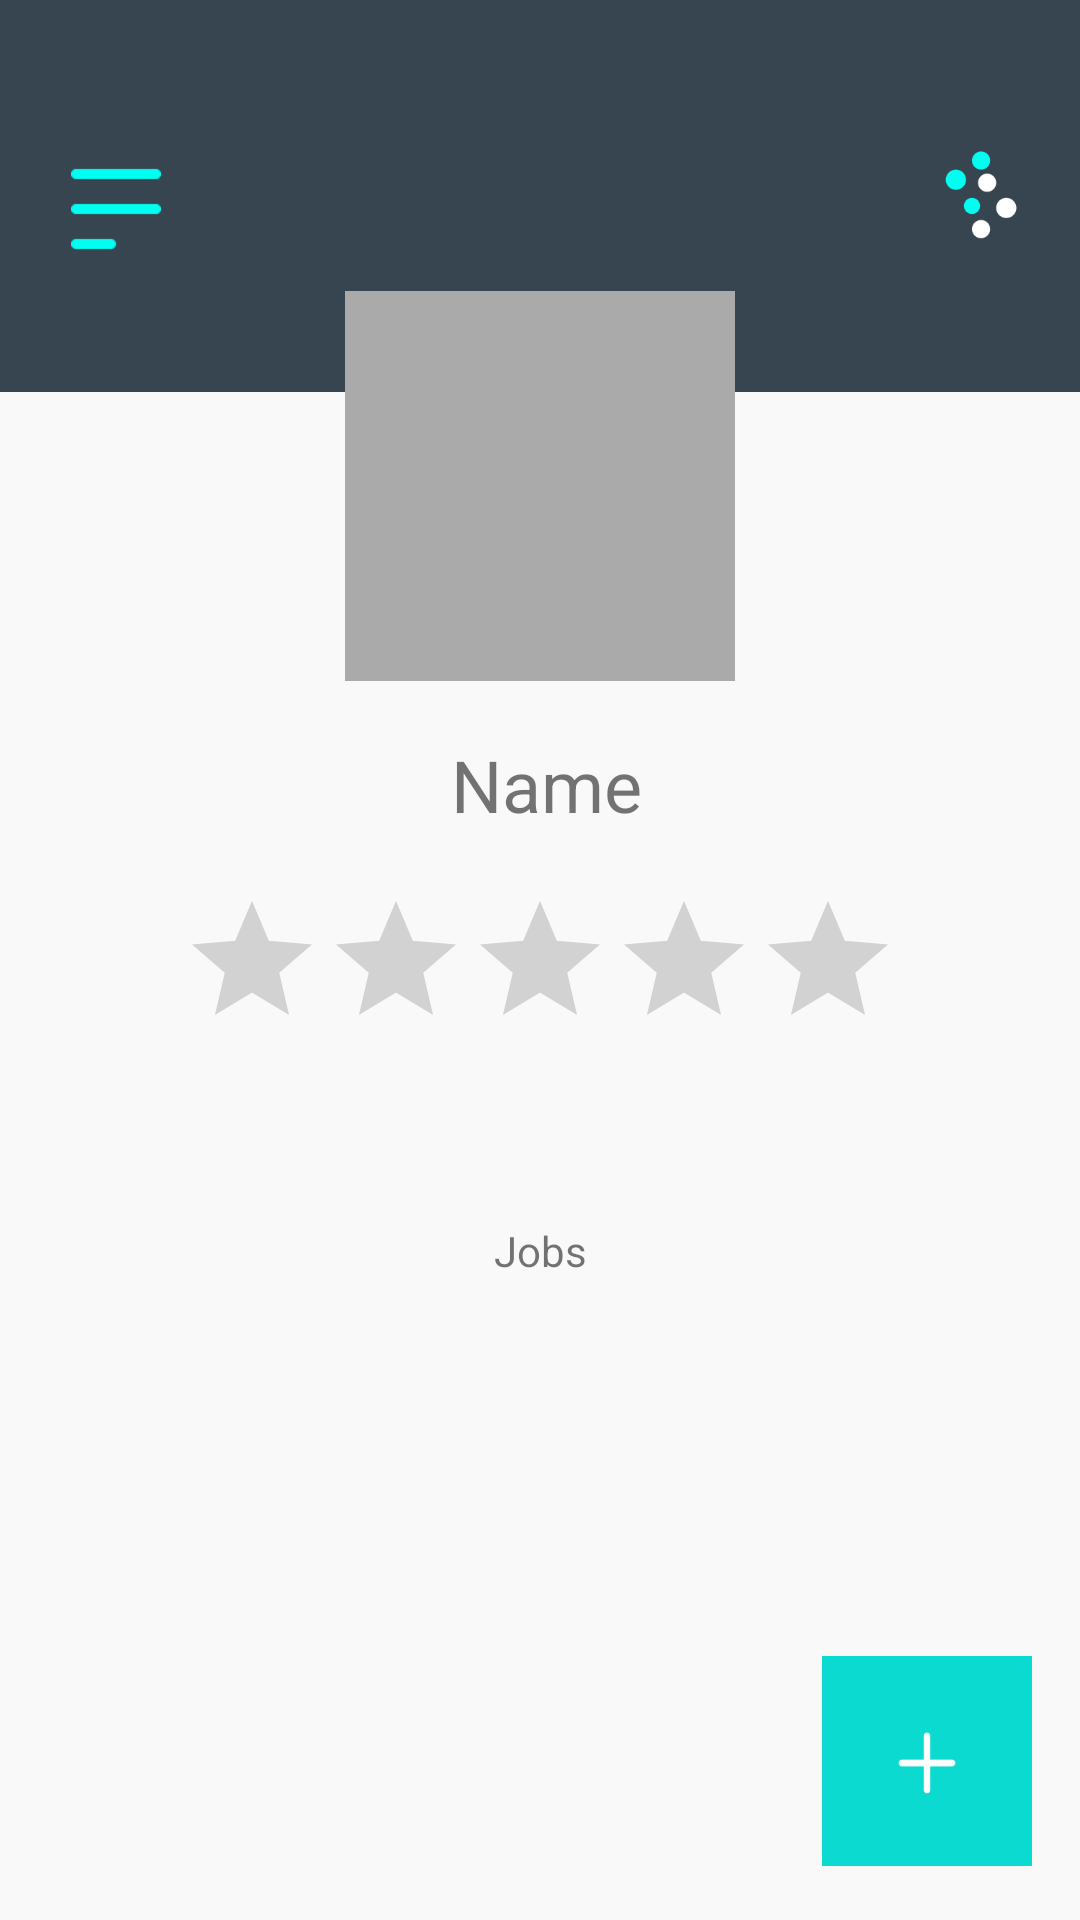

Named icons in this screenshot (1080w x 1920h) and their bounding boxes, (left=x1, top=y1, right=x2, bottom=y2):
add: (left=822, top=1656, right=1032, bottom=1866)
menu: (left=71, top=169, right=161, bottom=249)
